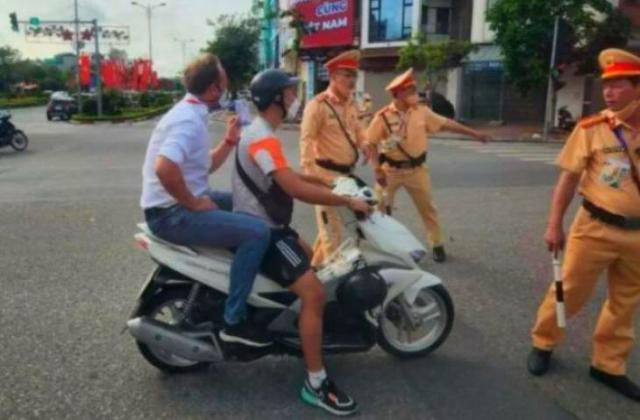helm: (250, 71, 304, 126)
motor: (136, 174, 456, 378)
non-helm: (181, 54, 236, 117)
